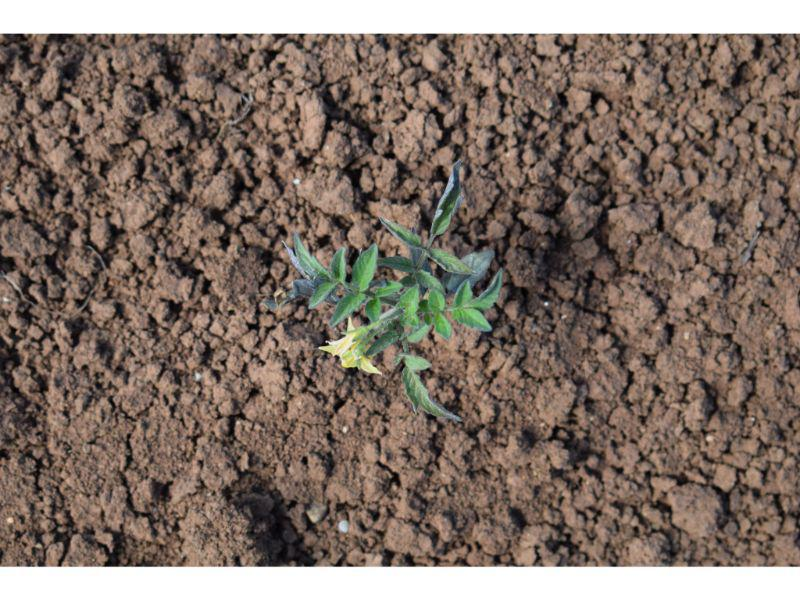tomato: (286, 161, 504, 417)
